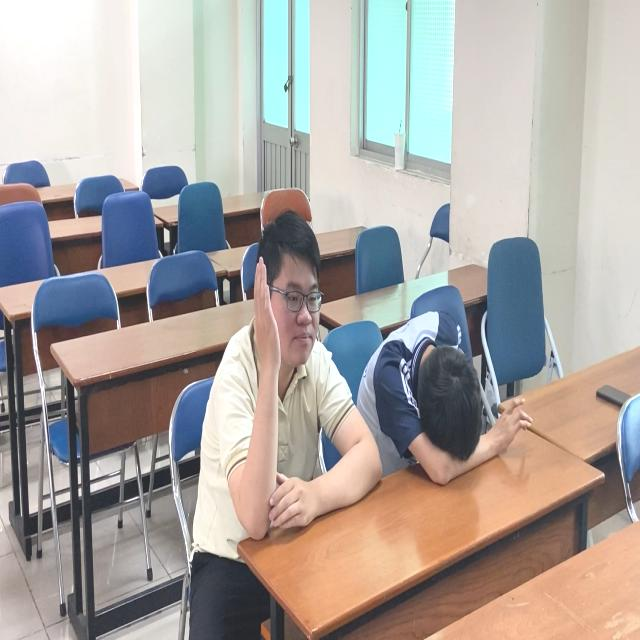raise_hand: (217, 212, 348, 547)
sleep: (362, 300, 535, 497)
